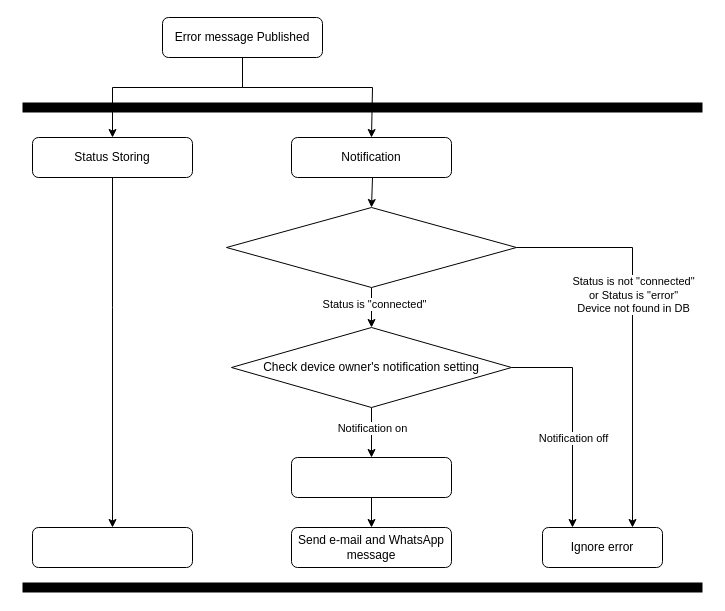
The diagram is 725 pixels wide and 611 high, and some of its shapes have lost their labels. The centre of each missing label's shape, as x and y in pixels:
"Check device's status (Stored in DB)" belongs at (x=371, y=247).
"Prepare e-mail and WhatsApp message" belongs at (x=371, y=477).
"Store in DB" belongs at (x=112, y=547).
